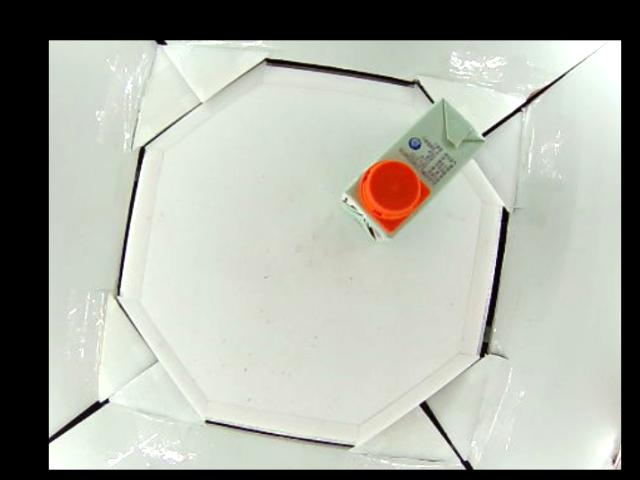Bottle: (340, 95, 483, 244)
